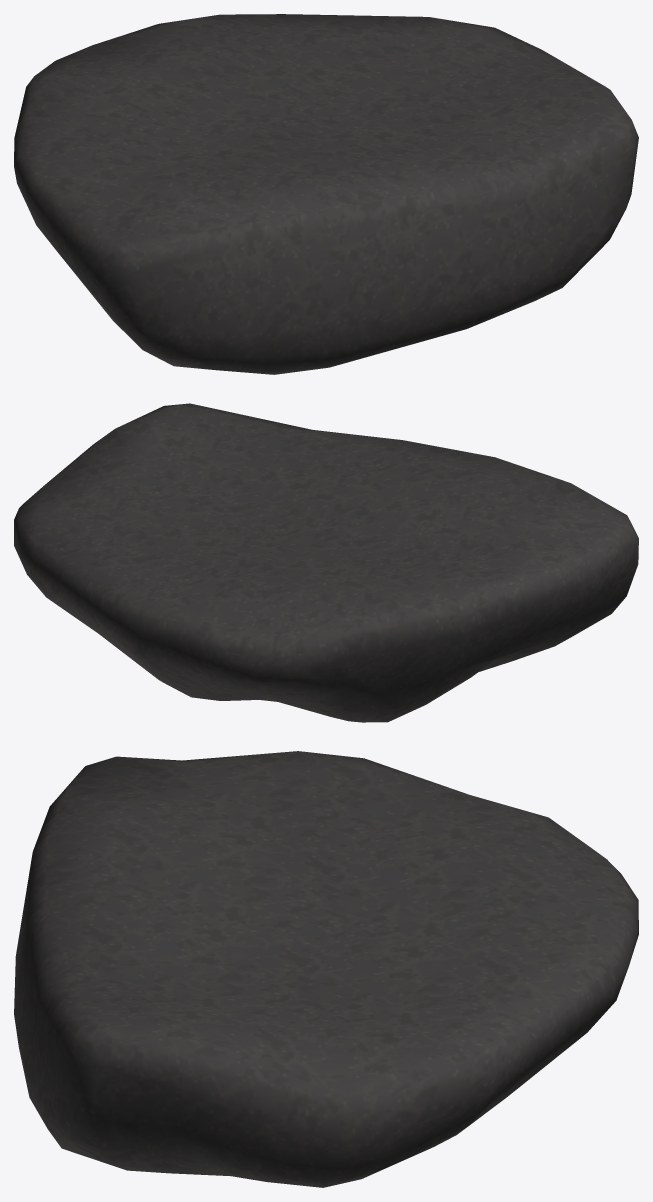
Rendered from TheFlatPart1.fbx.
3 views of the same model, one above another, from view 1: azimuth 30°, elevation 25°; view 2: azimuth 150°, elevation 25°; view 3: azimuth 270°, elevation 25° (orthographic). The views are drawn at different scales.
Parts seen in each view (by area): view 1: TheFlatPart1; view 2: TheFlatPart1; view 3: TheFlatPart1.
Part boxes in pixels (x1=…): TheFlatPart1: x1=14, y1=14, x2=638, y2=374; TheFlatPart1: x1=14, y1=403, x2=638, y2=722; TheFlatPart1: x1=14, y1=751, x2=638, y2=1187.
Size of the model in its own units: 736 by 240 by 606.
1 material, 1 textured.
